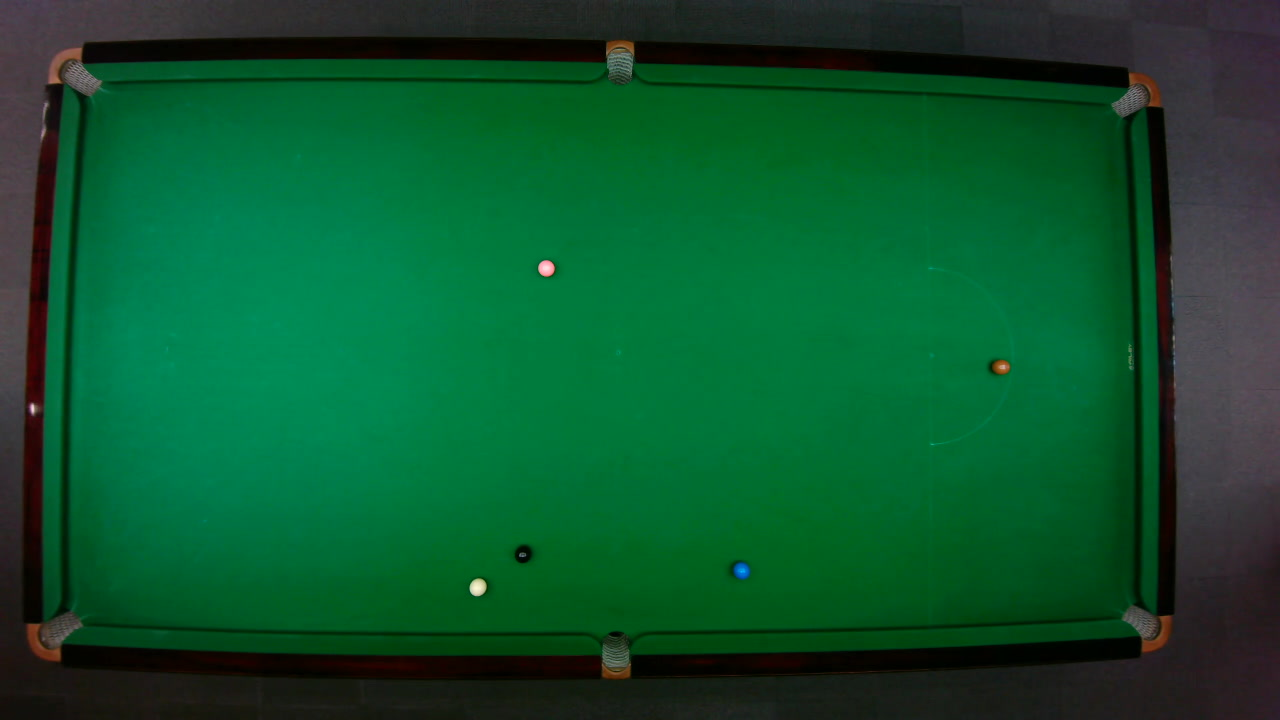bag: (25, 609, 83, 661), (45, 46, 102, 96), (1119, 603, 1171, 652), (1108, 71, 1161, 118), (600, 629, 629, 680), (605, 38, 633, 85)
black: (513, 544, 532, 563)
blue: (731, 560, 750, 579)
brown: (990, 358, 1010, 374)
pink: (536, 259, 555, 277)
white: (467, 576, 487, 597)
zone: (927, 265, 1012, 445)
